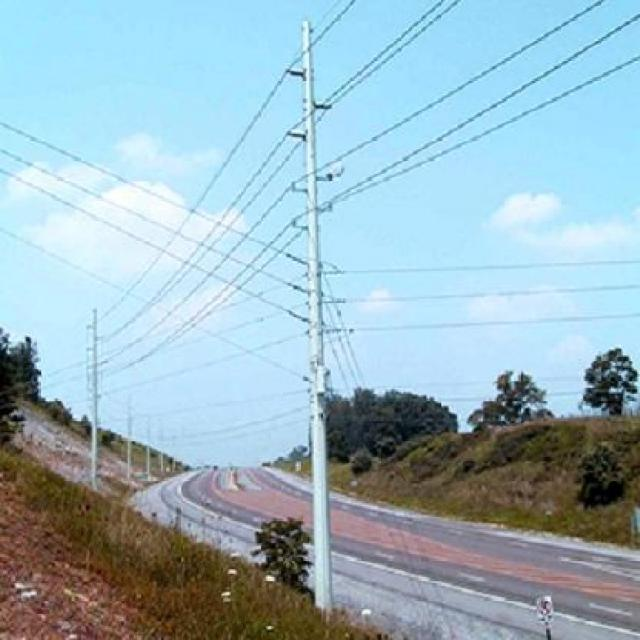pole: (275, 6, 368, 600), (71, 302, 115, 483)
